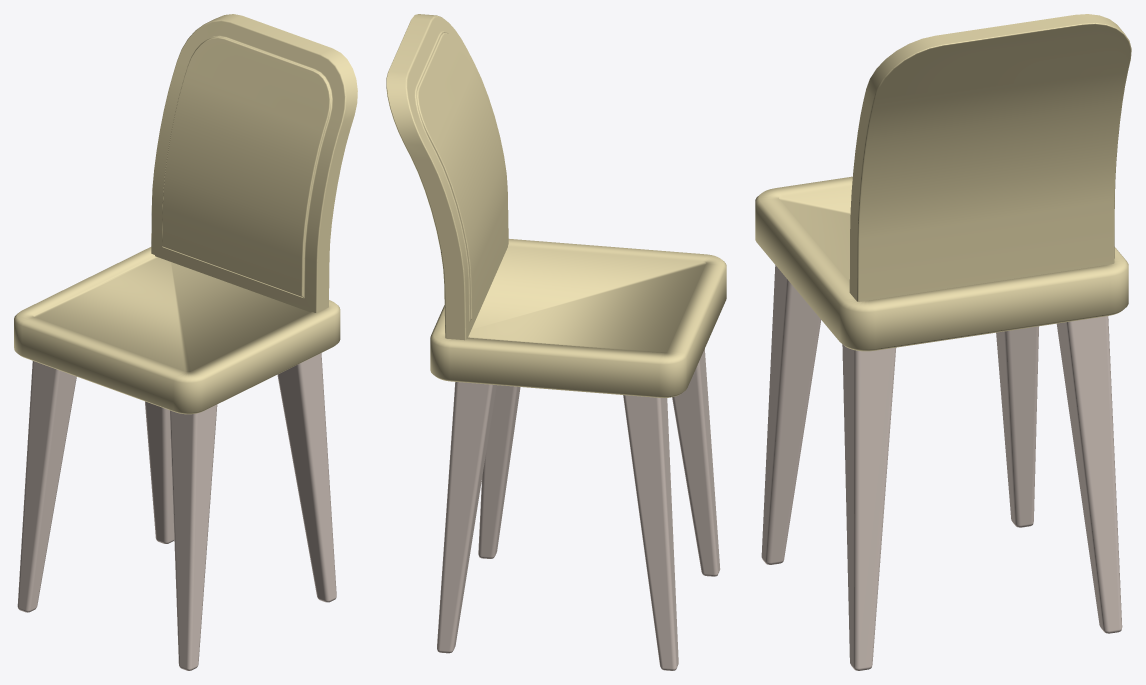
The model's file is Chair.fbx.
3 views of the same model, side by side, from view 1: azimuth 30°, elevation 25°; view 2: azimuth 150°, elevation 25°; view 3: azimuth 270°, elevation 25° (orthographic). The views are drawn at different scales.
Parts seen in each view (by area): view 1: Chair; view 2: Chair; view 3: Chair.
Part boxes in pixels (bbox=[...]): Chair: bbox=[14, 14, 357, 670]; Chair: bbox=[386, 14, 726, 670]; Chair: bbox=[755, 14, 1131, 670].
Size of the model in its own units: 52.92 by 90.28 by 47.61.
